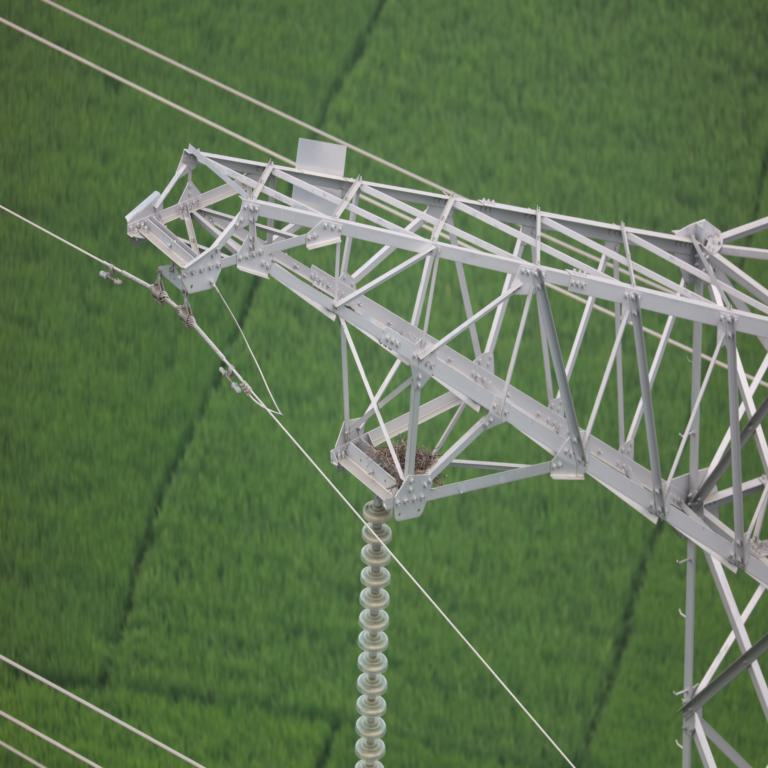nest: (376, 441, 433, 483)
